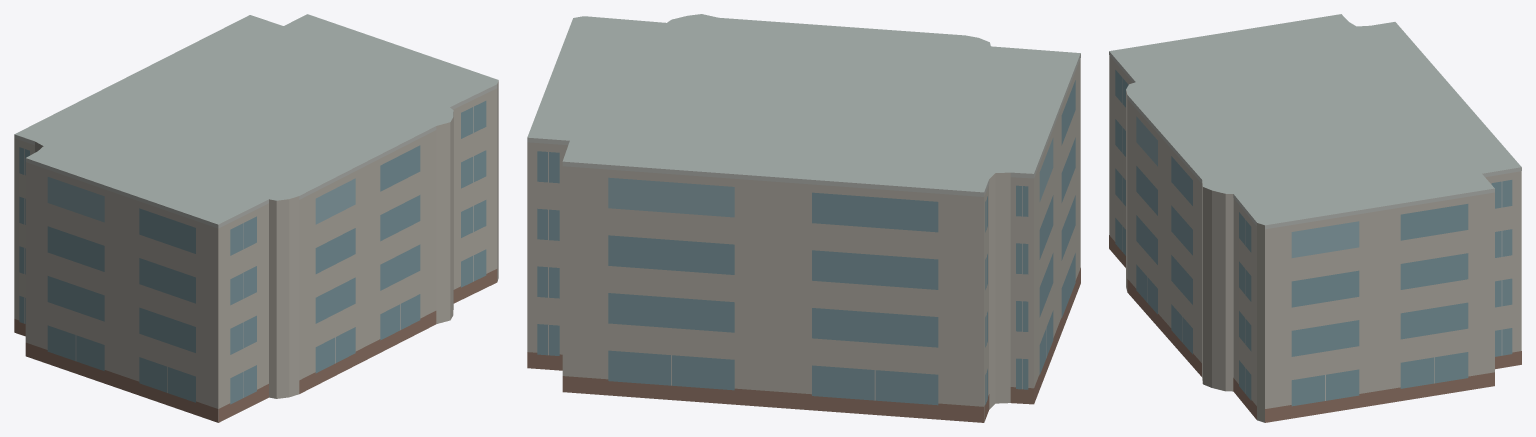
The model's file is survey-upis-32863874.glb.
3 views of the same model, side by side, from view 1: azimuth 30°, elevation 25°; view 2: azimuth 150°, elevation 25°; view 3: azimuth 270°, elevation 25° (orthographic). The views are drawn at different scales.
Parts seen in each view (by area): view 1: survey-upis-32863874.tmp; view 2: survey-upis-32863874.tmp; view 3: survey-upis-32863874.tmp.
Part boxes in pixels (x1,y1,x2,y2): survey-upis-32863874.tmp: (14, 14, 498, 422); survey-upis-32863874.tmp: (527, 14, 1080, 422); survey-upis-32863874.tmp: (1109, 14, 1521, 422).
Bounding box in the file's own units: 28.01 × 12.2 × 23.11.
